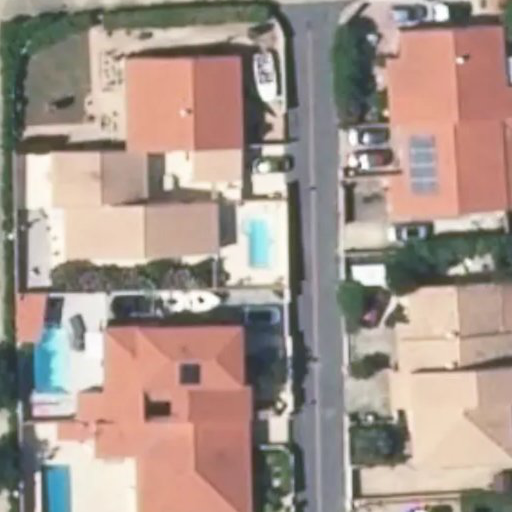pool: (237, 215, 274, 268)
